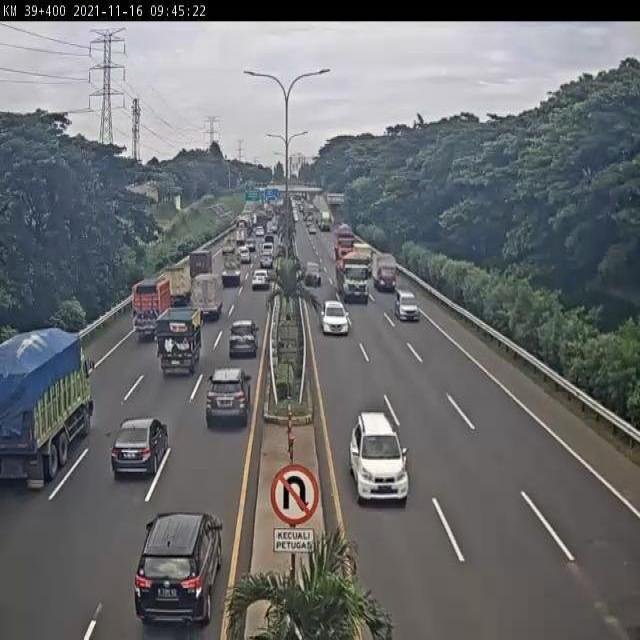car: (136, 513, 223, 619), (350, 411, 410, 505), (110, 420, 169, 477), (205, 369, 248, 424), (319, 298, 350, 334), (229, 321, 258, 356), (394, 290, 419, 322), (303, 261, 322, 287), (250, 271, 271, 293), (234, 244, 251, 265), (258, 248, 273, 267)
small truck: (154, 312, 199, 384), (189, 272, 223, 325), (157, 269, 185, 311), (219, 252, 244, 288), (187, 247, 212, 277)
truck-l-: (0, 332, 94, 480), (331, 244, 371, 305)
truck-m-: (131, 276, 169, 339)
